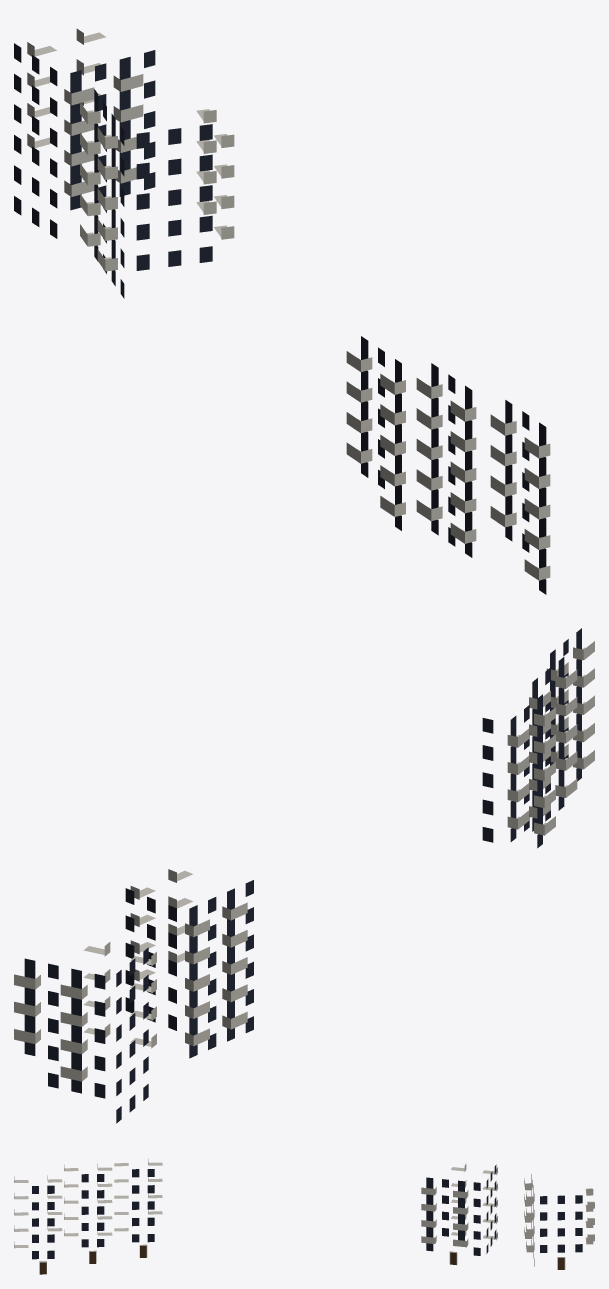
File: facades.glb
The picture shows the model from 3 angles, top to bottom: view 1: azimuth 30°, elevation 25°; view 2: azimuth 150°, elevation 25°; view 3: azimuth 270°, elevation 25°; orthographic projection. The views are drawn at different scales.
Parts seen in each view (by area): view 1: T_W1_S4_facades; view 2: T_W1_S4_facades; view 3: T_W1_S4_facades.
Boxes of the visible parts, x1,y1,x2,y2 form: T_W1_S4_facades: (14,28,550,594); T_W1_S4_facades: (14,628,594,1123); T_W1_S4_facades: (14,1159,594,1274).
Bounding box in the file's own units: 16.93 × 17.86 × 97.09.
